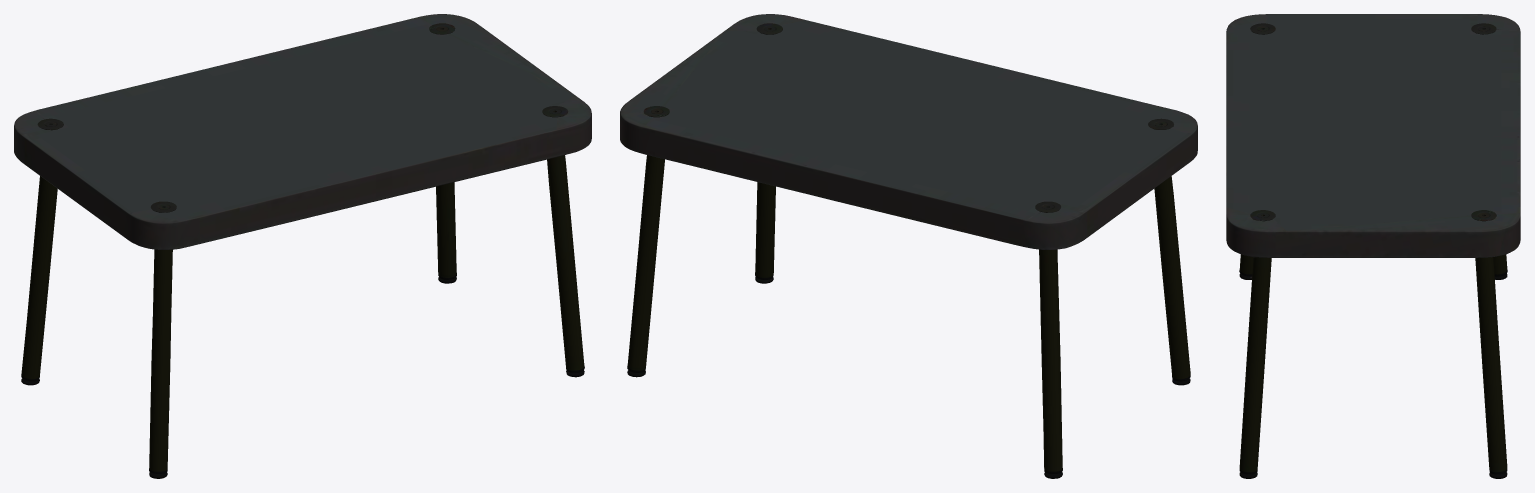
Rendered from 18 - SONHULT - 子母桌 2件組，灰色胡桃木紋 IKEA 線上購物.glb.
The picture shows the model from 3 angles, left to right: view 1: azimuth 30°, elevation 25°; view 2: azimuth 150°, elevation 25°; view 3: azimuth 270°, elevation 25°; orthographic projection. The views are drawn at different scales.
Parts seen in each view (by area): view 1: ASY_ART_50584293_S01_NV01; view 2: ASY_ART_50584293_S01_NV01; view 3: ASY_ART_50584293_S01_NV01.
Part boxes in pixels (x1,y1,x2,y2): ASY_ART_50584293_S01_NV01: [14, 14, 591, 478]; ASY_ART_50584293_S01_NV01: [620, 14, 1197, 478]; ASY_ART_50584293_S01_NV01: [1226, 14, 1520, 478].
Size of the model in its own units: 0.7001 by 0.381 by 0.4001.
1 material, 1 textured.
